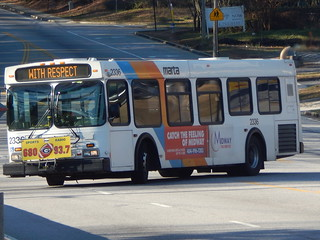bus: (4, 57, 303, 186)
